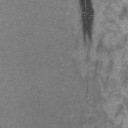oxide scale of plate system: (78, 0, 96, 43)
